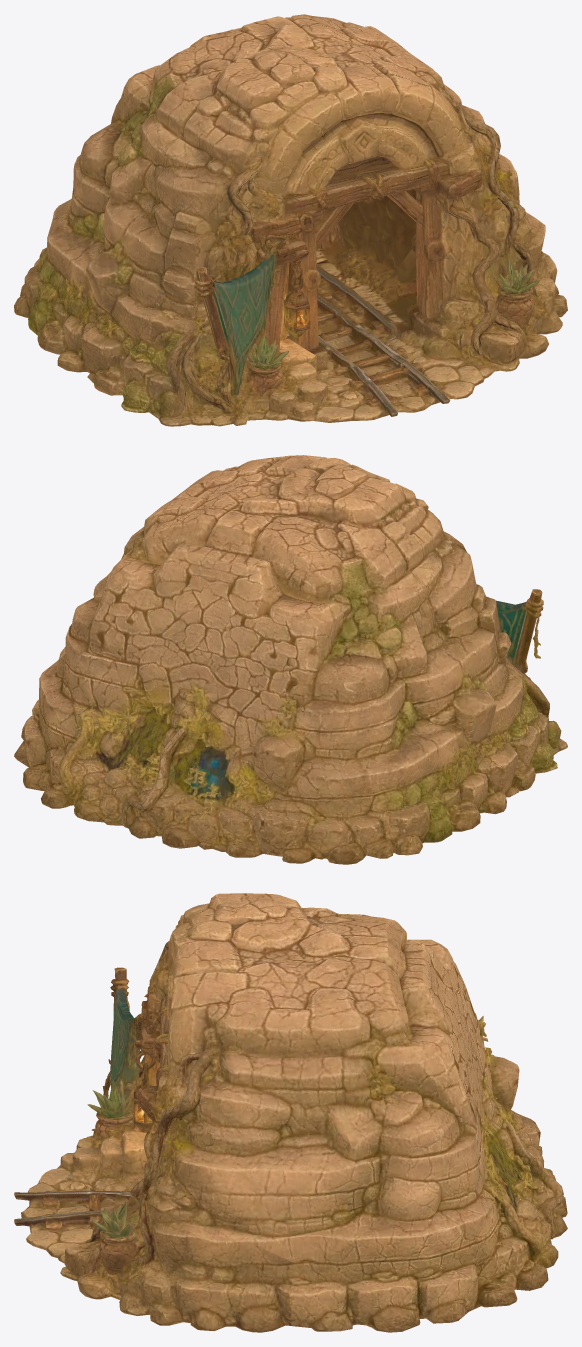
Rendered from mine-entrance.glb.
3 views of the same model, one above another, from view 1: azimuth 30°, elevation 25°; view 2: azimuth 150°, elevation 25°; view 3: azimuth 270°, elevation 25° (orthographic). The views are drawn at different scales.
Bounding box in the file's own units: 1.9 × 1.12 × 1.89.
Materials: 1 (1 with a texture image).
